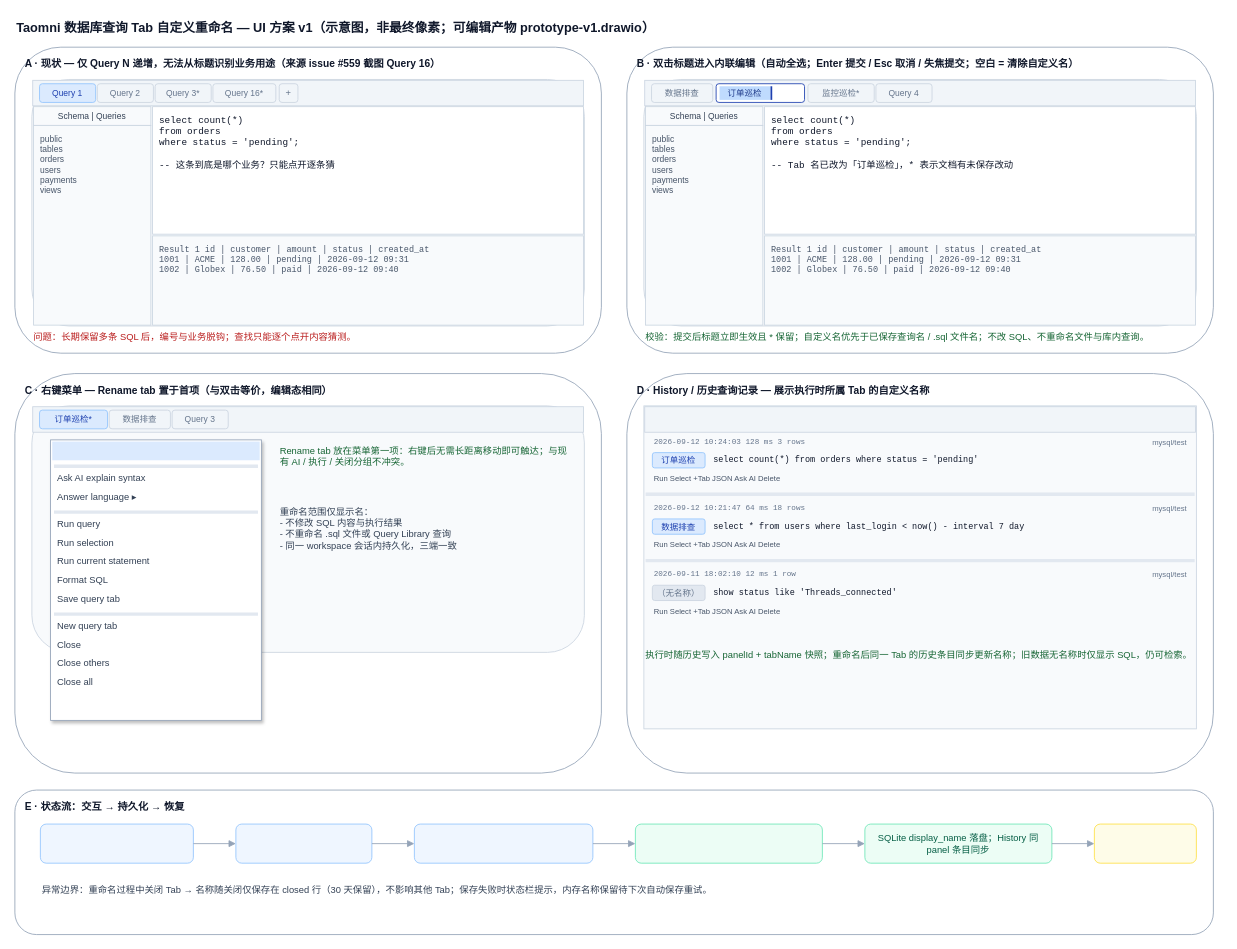
Some shapes in this 1237 by 949 pixel diagram are drawn without their labels. Here are the shapes that lost their labels. From the top down, the centre of each, then its label:
the point at 920,419: Query history 3 Refresh Clear
the point at 155,450: Rename tab
the point at 116,843: 双击标题 / 右键 Rename tab
the point at 303,843: 内联编辑（文本自动全选）
the point at 503,843: Enter / 失焦提交，Esc 取消；空白清除自定义名
the point at 728,843: patchPanel(displayName) + 1s debounce 自动保存
the point at 1145,843: 刷新 / 重启恢复 Tab 名
